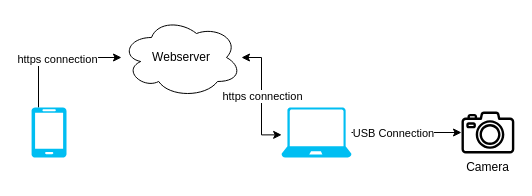
This 532x196 diagram has some shape labels left out. The shapes that lost their labels are listed below. From the top down, each one's centre as x and y in pixels, then its label:
At (48,132): "User Phone".
At (316,132): "Photobox Laptop".
